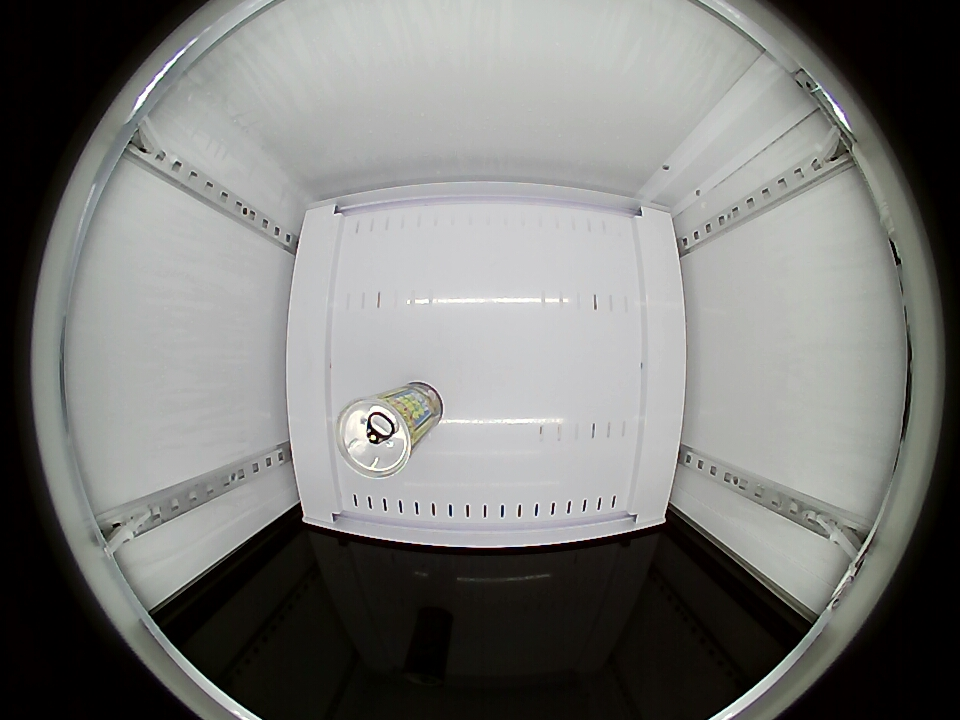yezhi: (335, 391, 423, 481)
